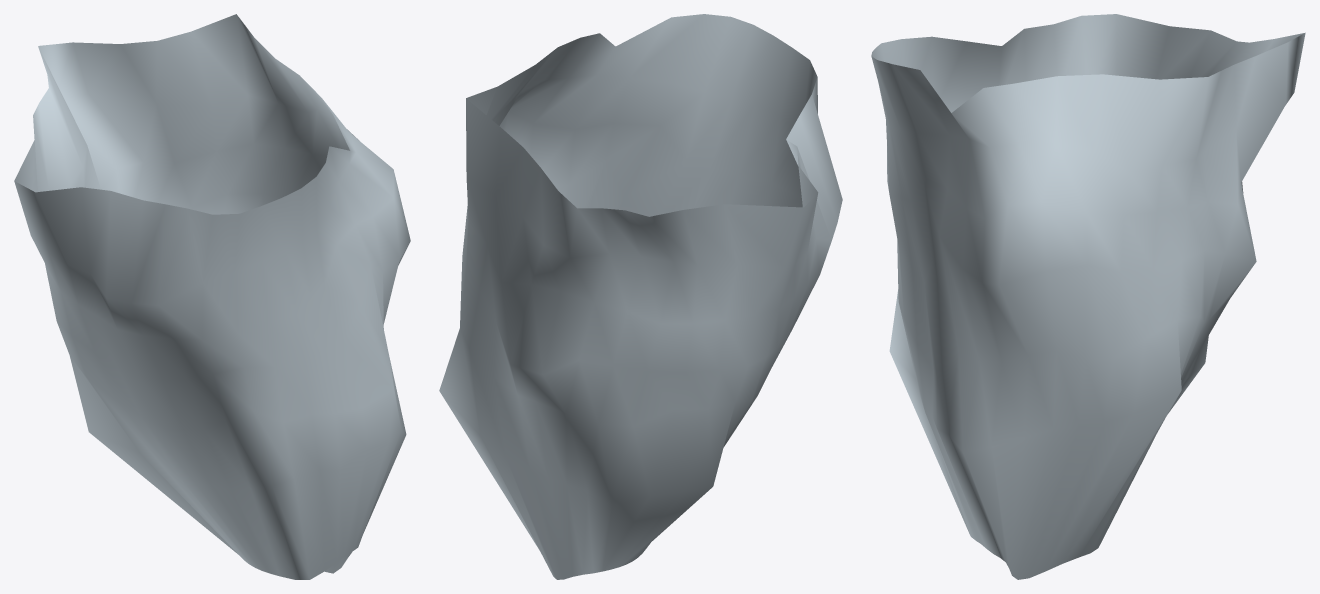
The model's file is Spaceship Fire Shader Mesh.fbx.
3 views of the same model, side by side, from view 1: azimuth 30°, elevation 25°; view 2: azimuth 150°, elevation 25°; view 3: azimuth 270°, elevation 25° (orthographic). The views are drawn at different scales.
Visible parts, largest first — view 1: Sphere; view 2: Sphere; view 3: Sphere.
Boxes of the visible parts, x1,y1,x2,y2 form: Sphere: [14, 14, 410, 579]; Sphere: [439, 14, 842, 579]; Sphere: [871, 14, 1305, 579].
Bounding box in the file's own units: 278 × 386 × 302.
